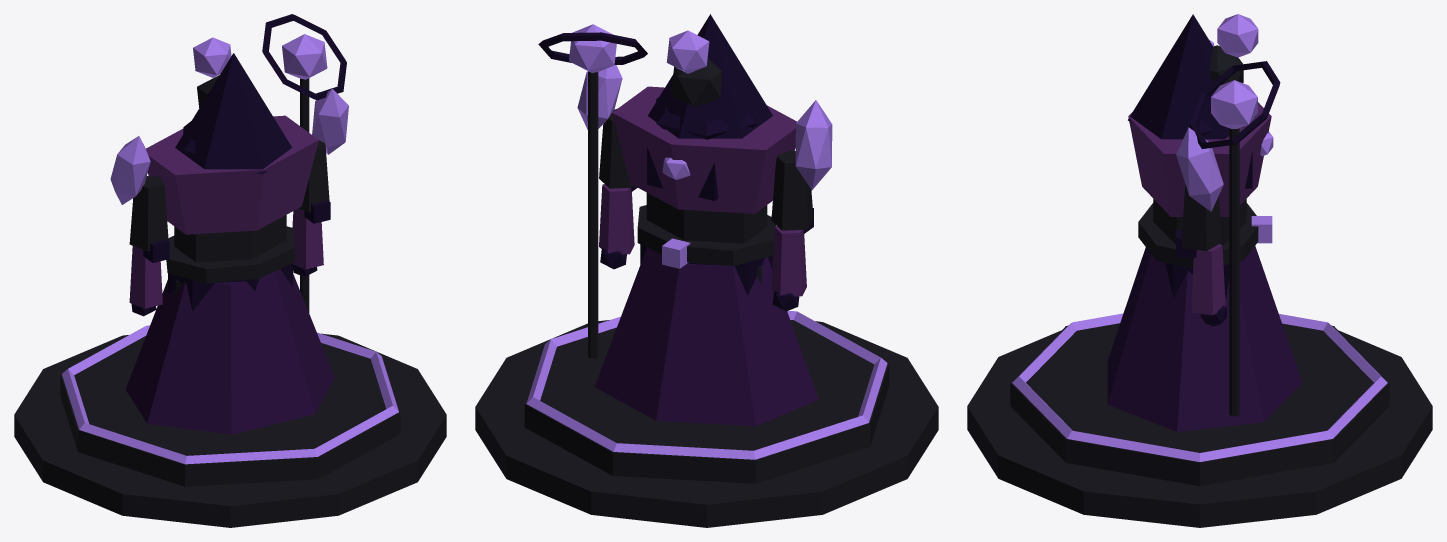
The model's file is arcanist.glb.
3 views of the same model, side by side, from view 1: azimuth 30°, elevation 25°; view 2: azimuth 150°, elevation 25°; view 3: azimuth 270°, elevation 25° (orthographic). The views are drawn at different scales.
Visible parts, largest first — view 1: Pedestal_Base_-3.0, Cone.020, Pedestal_Top_-3.0, Vespera_Chest, Cone.019, Pedestal_RuneRing_-3.0, Cylinder.005, Cylinder.006, Cone.015, Icosphere.006, Icosphere.007, Torus.004 (+7 smaller); view 2: Pedestal_Base_-3.0, Cone.020, Pedestal_Top_-3.0, Vespera_Chest, Pedestal_RuneRing_-3.0, Cone.019, Cylinder.006, Cylinder.008, Cylinder.005, Cone.015, Icosphere.006, Cone.018 (+11 smaller); view 3: Pedestal_Base_-3.0, Pedestal_Top_-3.0, Cone.020, Pedestal_RuneRing_-3.0, Cone.019, Vespera_Chest, Cylinder.008, Icosphere.007, Cylinder.005, Cone.018, Cone.017, Torus.004 (+5 smaller).
Boxes of the visible parts, box(x1,y1,x2,y2) form: Pedestal_Base_-3.0: box(14, 333, 446, 527); Cone.020: box(125, 269, 334, 434); Pedestal_Top_-3.0: box(60, 336, 400, 486); Vespera_Chest: box(146, 115, 318, 234); Cone.019: box(175, 53, 292, 173); Pedestal_RuneRing_-3.0: box(62, 325, 398, 464); Cylinder.005: box(166, 226, 295, 283); Cylinder.006: box(174, 215, 286, 262); Cone.015: box(129, 176, 168, 251); Icosphere.006: box(110, 136, 150, 204); Icosphere.007: box(312, 88, 348, 154); Torus.004: box(262, 14, 346, 100); Pedestal_Base_-3.0: box(475, 320, 938, 527); Cone.020: box(594, 247, 818, 426); Pedestal_Top_-3.0: box(524, 320, 889, 483); Vespera_Chest: box(612, 86, 796, 213); Pedestal_RuneRing_-3.0: box(526, 311, 887, 459); Cone.019: box(648, 14, 772, 138); Cylinder.006: box(646, 193, 767, 243); Cylinder.008: box(588, 71, 598, 358); Cylinder.005: box(637, 205, 776, 266); Cone.015: box(771, 150, 813, 230); Icosphere.006: box(795, 100, 832, 190); Cone.018: box(599, 184, 634, 254); Pedestal_Base_-3.0: box(967, 330, 1432, 527); Pedestal_Top_-3.0: box(1010, 323, 1389, 486); Cone.020: box(1107, 246, 1302, 431); Pedestal_RuneRing_-3.0: box(1012, 313, 1387, 461); Cone.019: box(1128, 14, 1255, 139); Vespera_Chest: box(1128, 102, 1271, 216); Cylinder.008: box(1229, 128, 1239, 416); Icosphere.007: box(1176, 127, 1223, 211); Cylinder.005: box(1138, 203, 1258, 268); Cone.018: box(1191, 244, 1225, 315); Cone.017: box(1182, 184, 1222, 250); Torus.004: box(1189, 61, 1280, 148).
Size of the model in its own units: 2.7 by 2.66 by 2.7.
